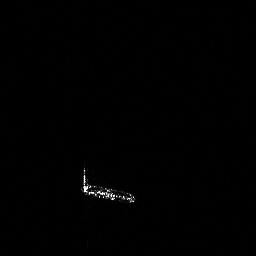ship: (82, 167, 136, 204)
